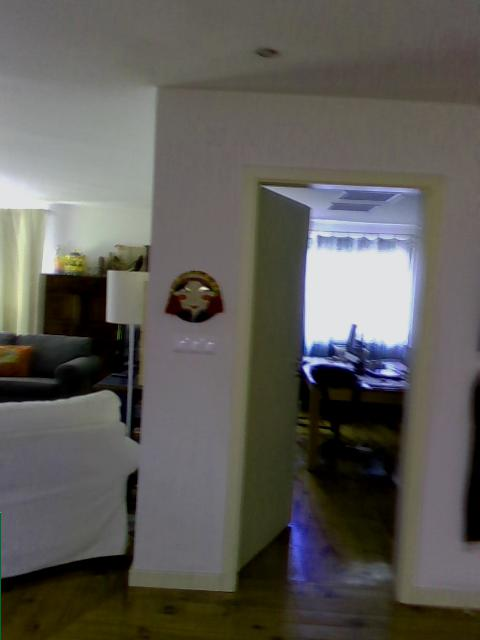open_door: (226, 162, 447, 604)
